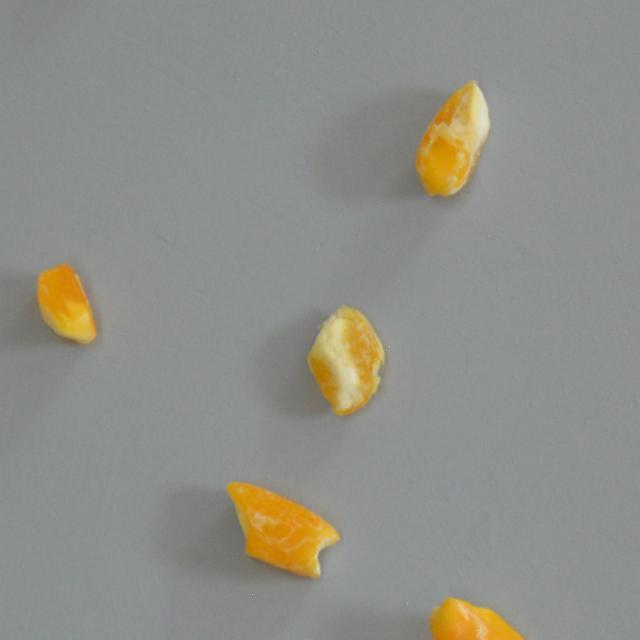estandar: (33, 262, 97, 344)
pelicula: (216, 478, 340, 582), (405, 78, 492, 199), (305, 304, 388, 416), (429, 594, 542, 640)
